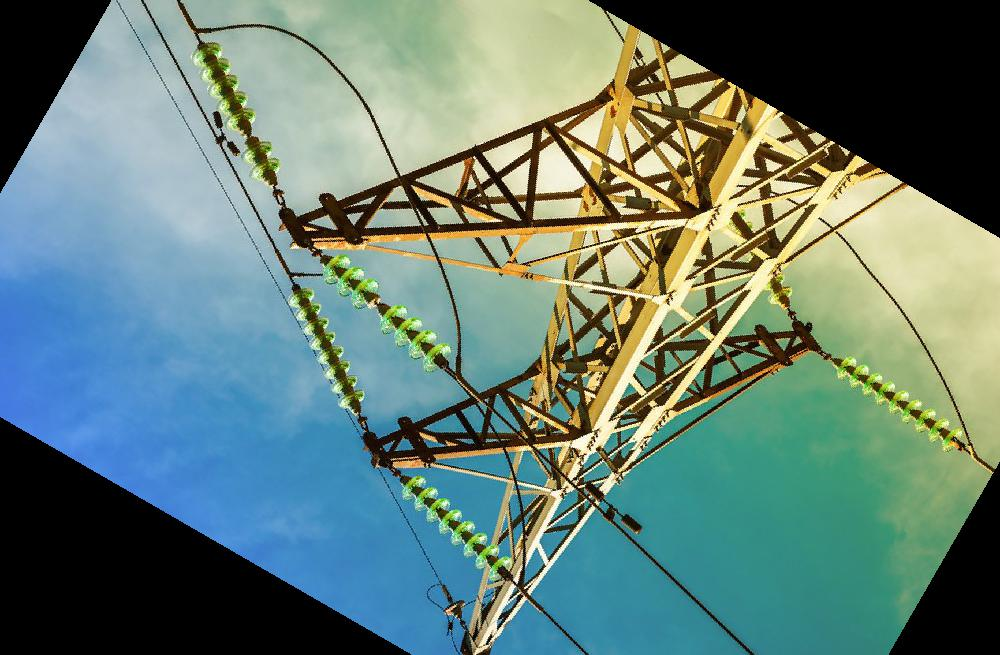insulator: (320, 251, 455, 375), (833, 350, 968, 458), (186, 35, 280, 186), (396, 472, 519, 586), (282, 281, 369, 416), (760, 267, 797, 317)
insulator_stringdrop: (347, 274, 413, 338), (222, 105, 278, 164)
